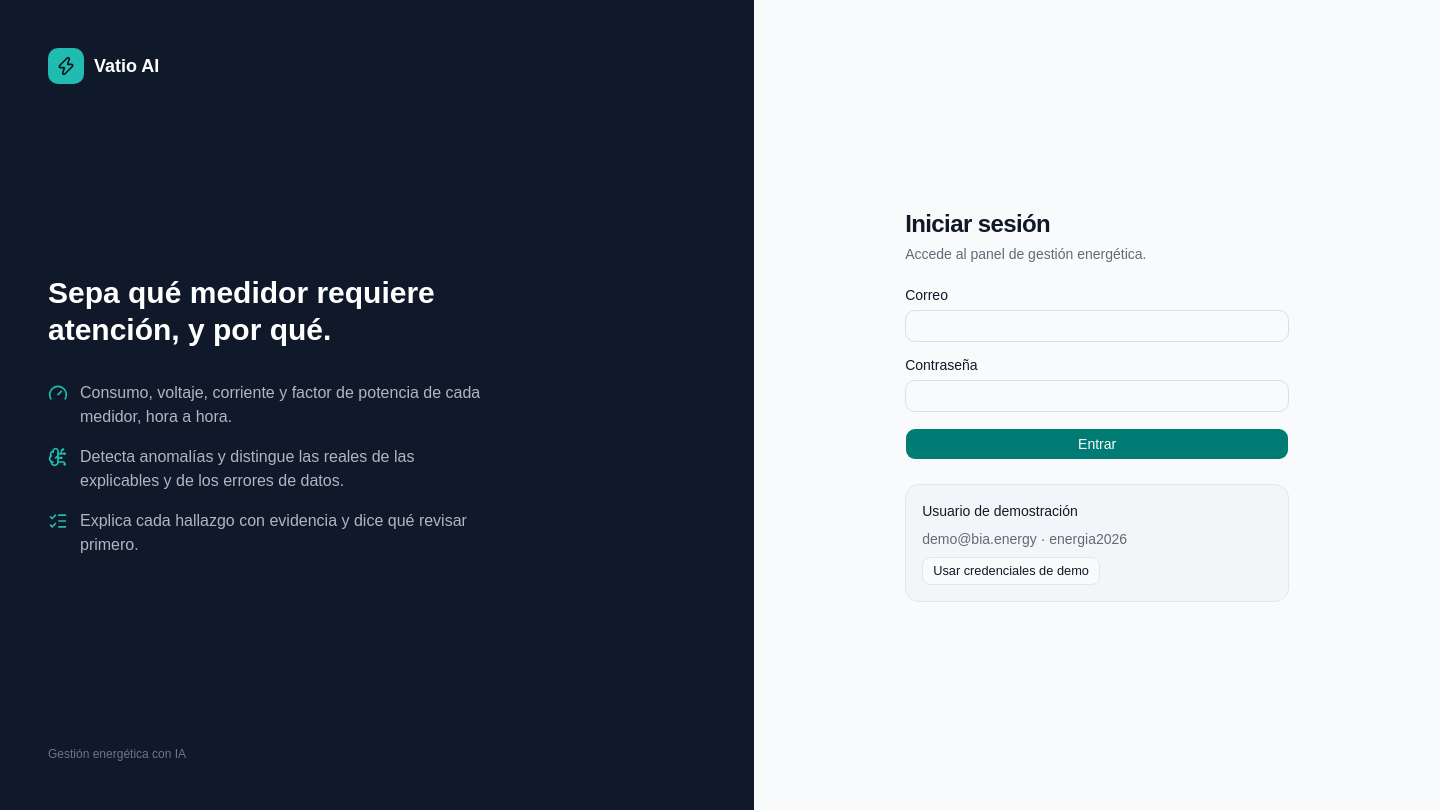
LoginPage › muestra el error si la contraseña es incorrecta
The image size is (1440, 810).
Type "demo@bia.energy" into the field labelled "Correo" at (1097, 326), box x1=905 y1=310 x2=1289 y2=342
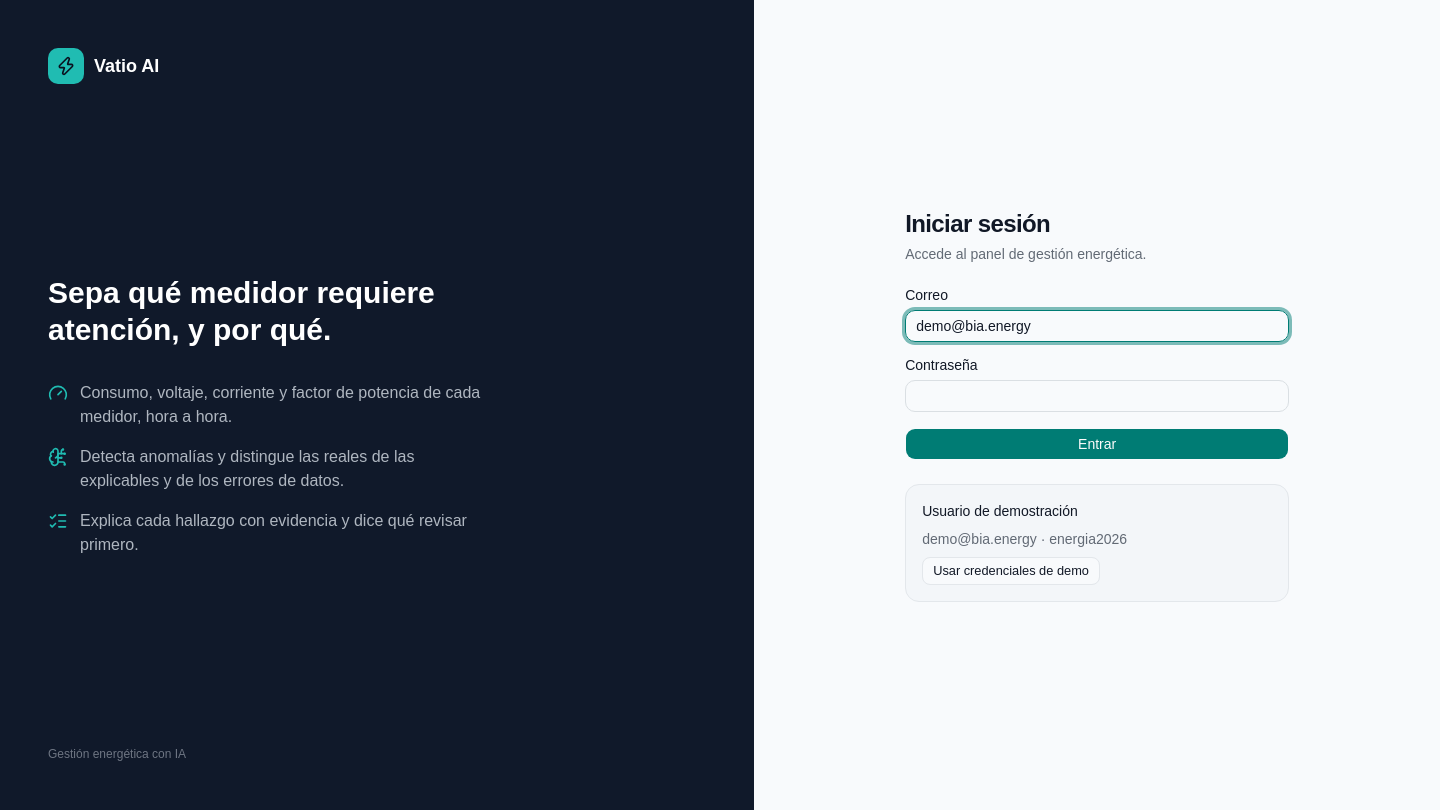
Type "mala" into the password field labelled "Contraseña" at (1097, 396), box x1=905 y1=380 x2=1289 y2=412
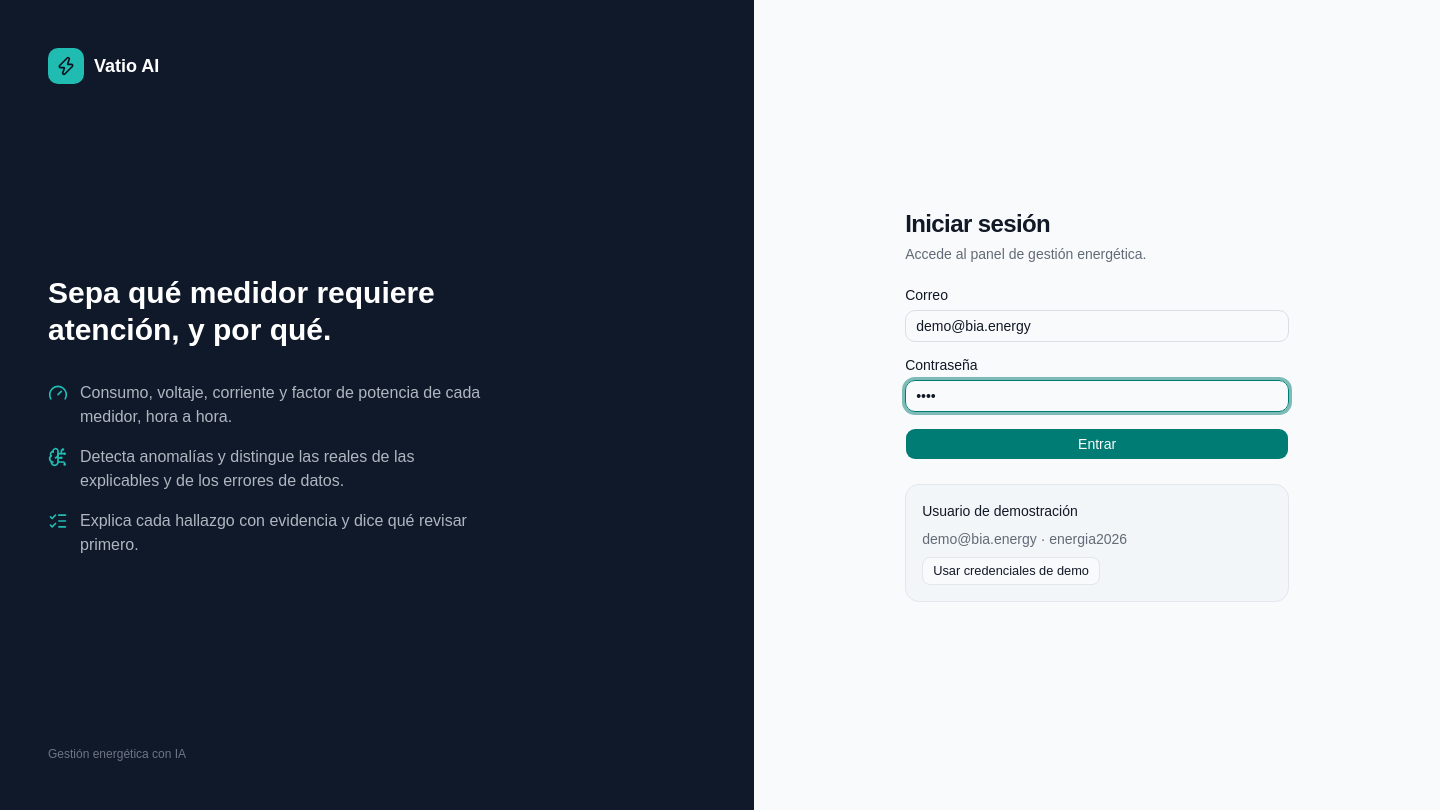
Click the button "Entrar" at (1097, 444), box x1=905 y1=428 x2=1289 y2=460
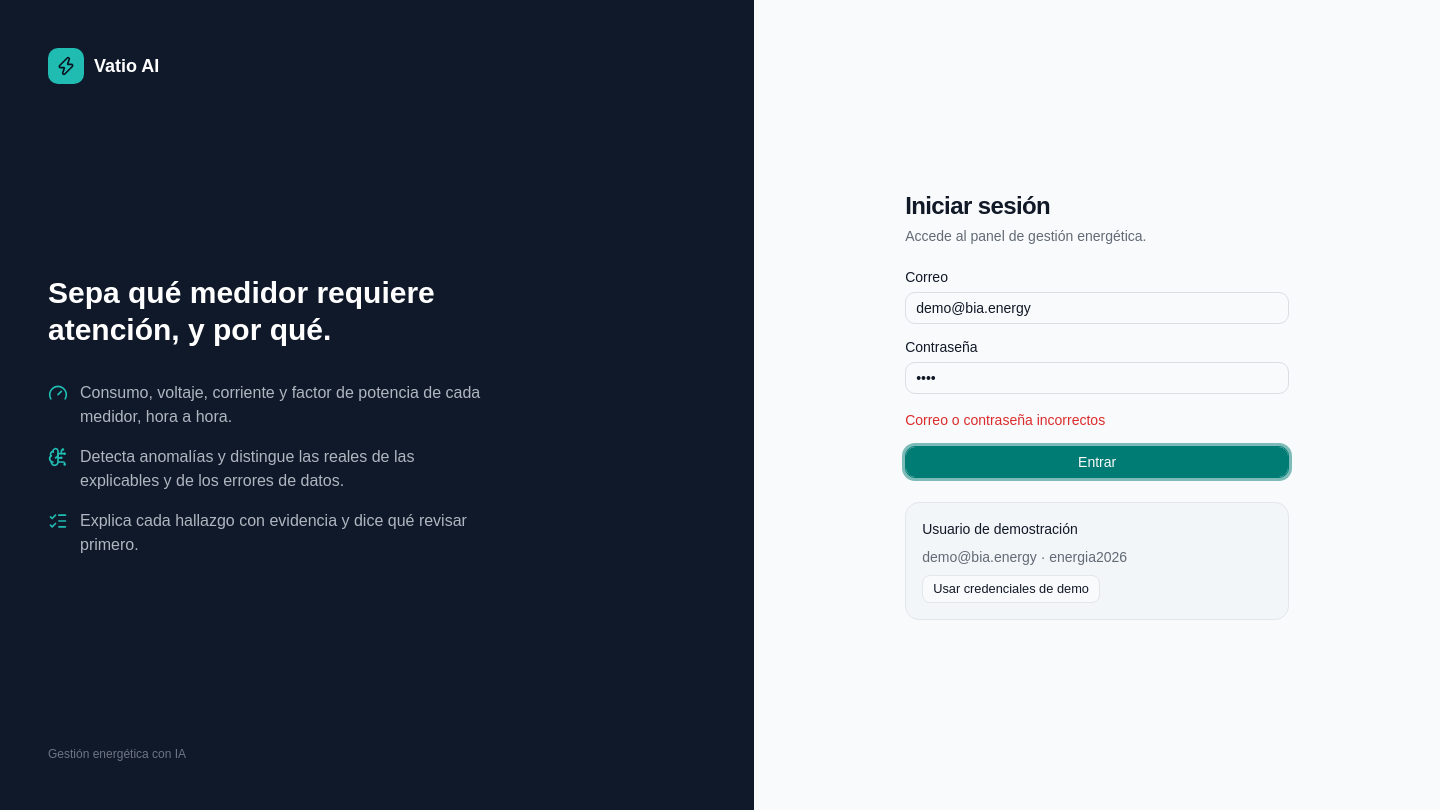
expect the message reads "Correo o contraseña incorrectos": met, box x1=905 y1=412 x2=1105 y2=428
